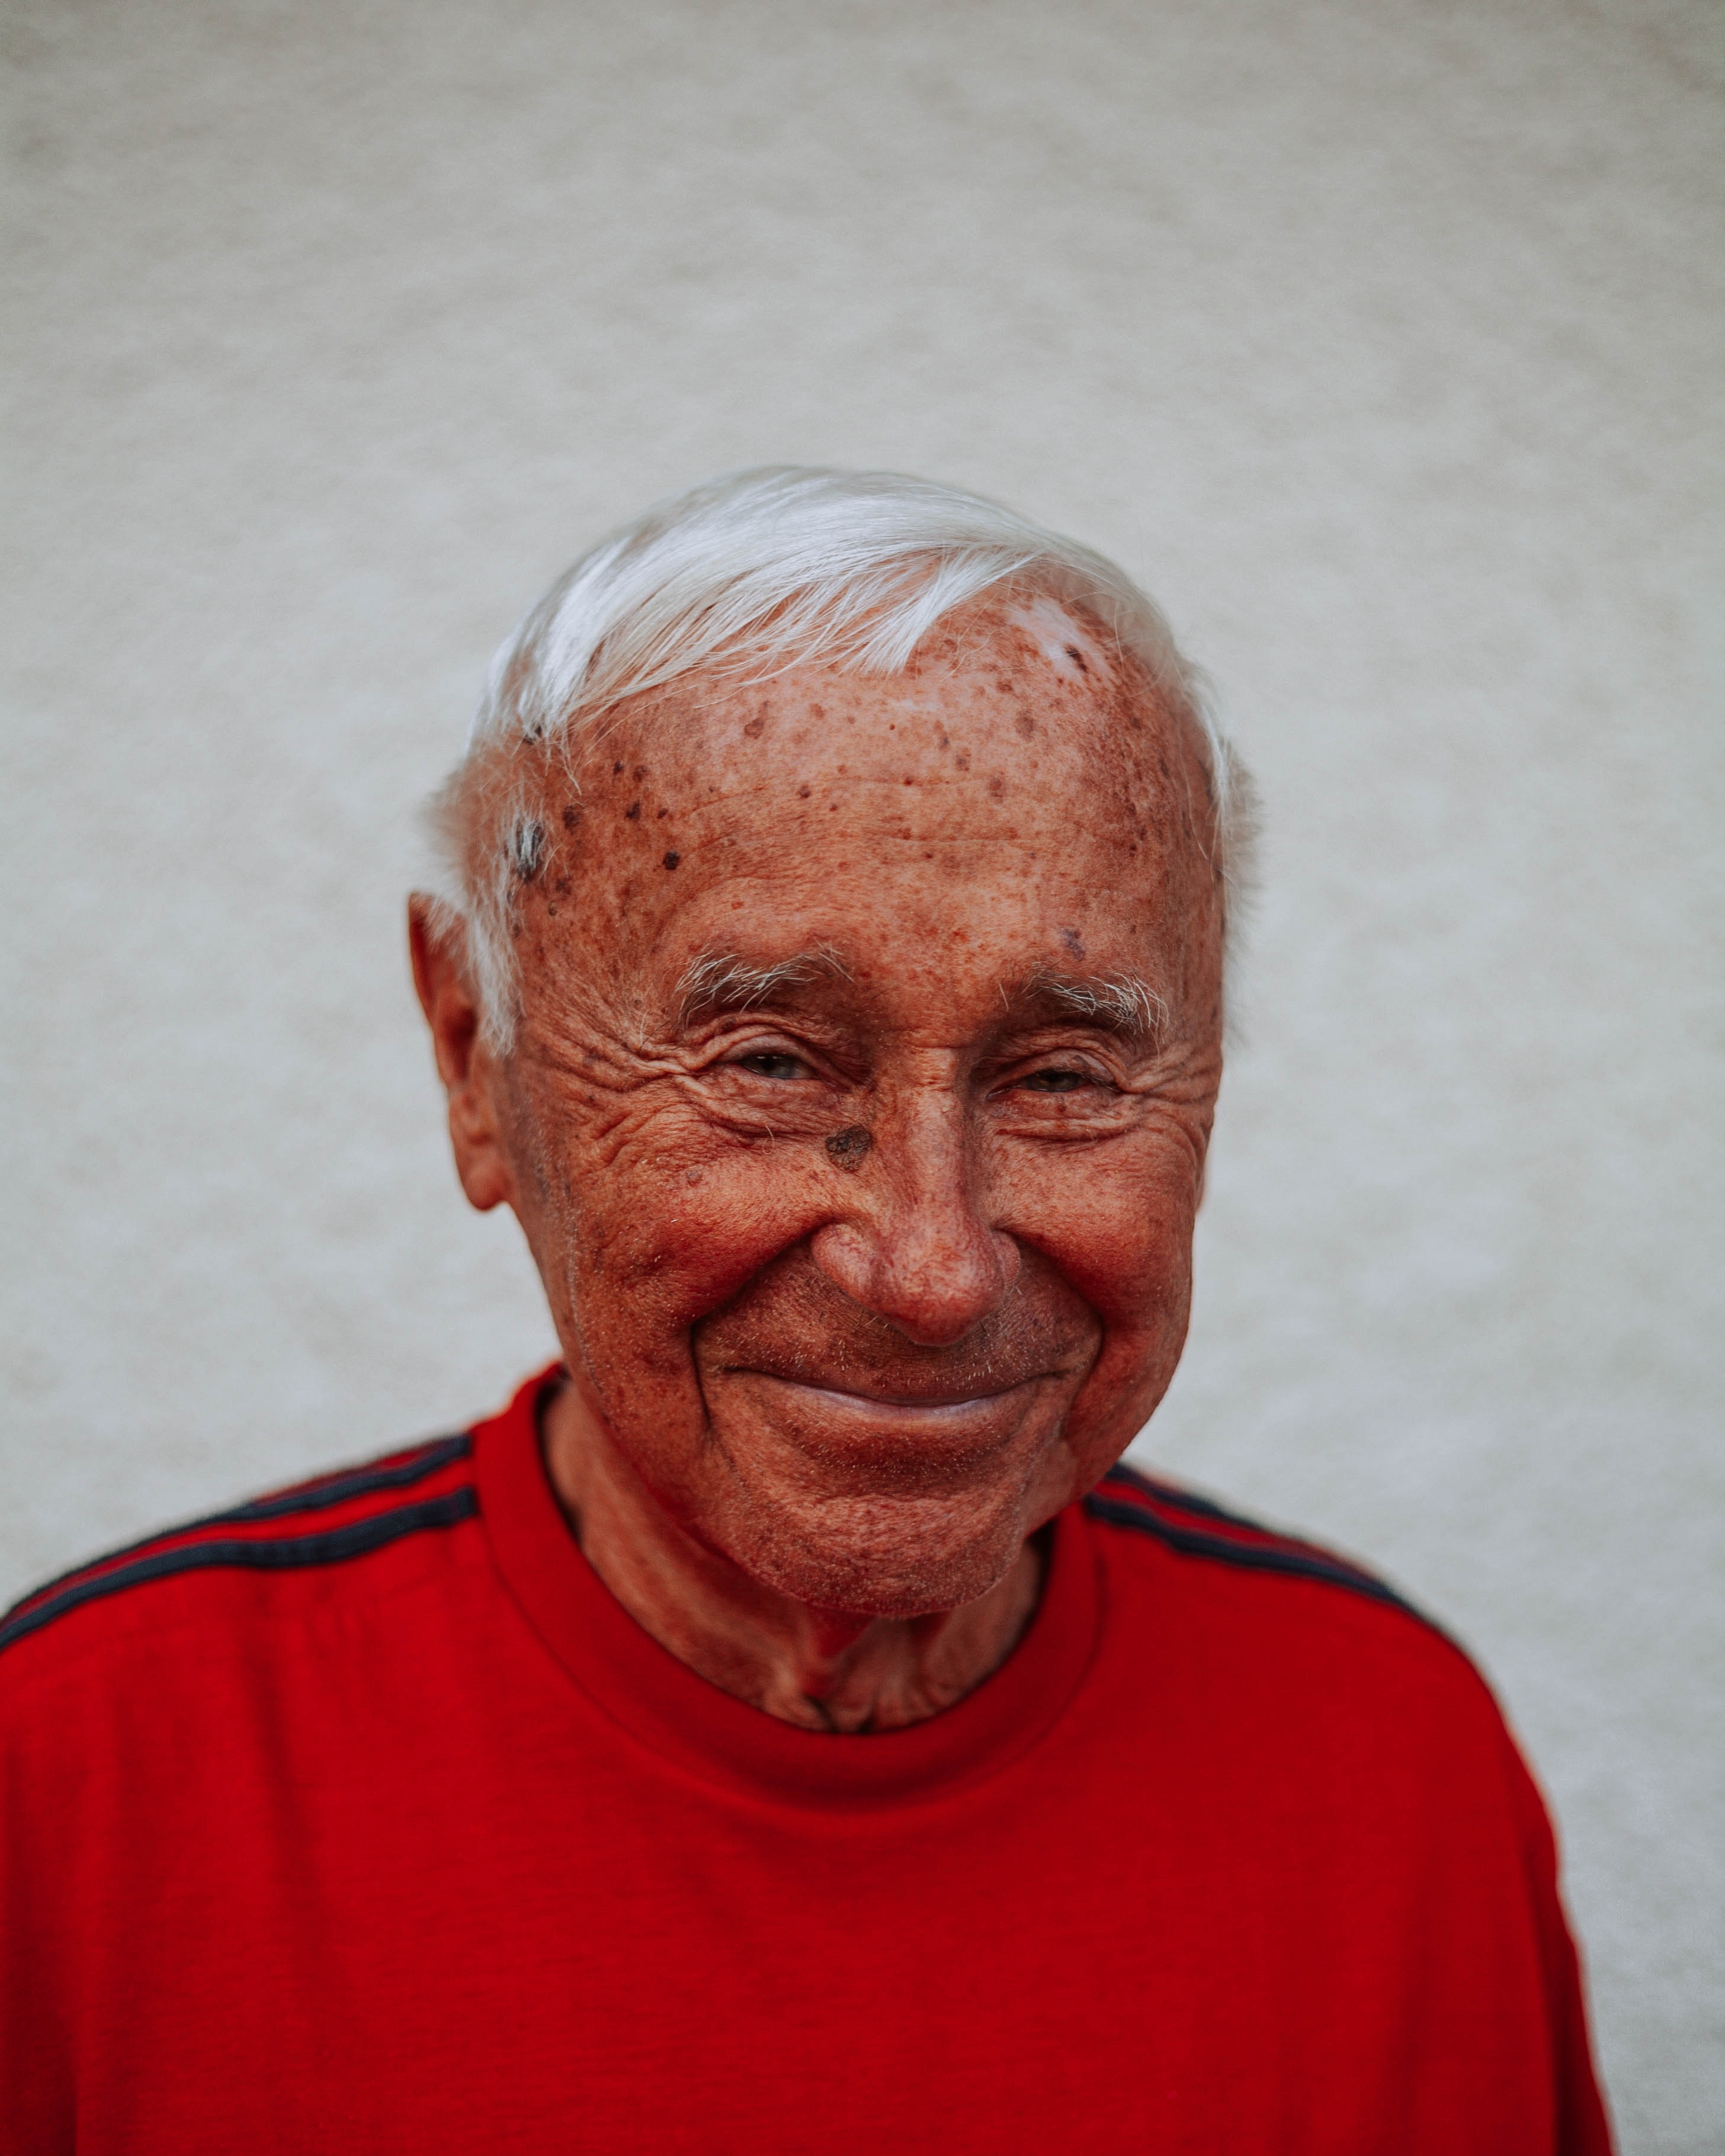DARK_SPOTS: (824, 1123, 877, 1172), (613, 762, 655, 820), (660, 850, 683, 873)
WRINKLES: (576, 1021, 665, 1096), (1141, 1063, 1215, 1123)
